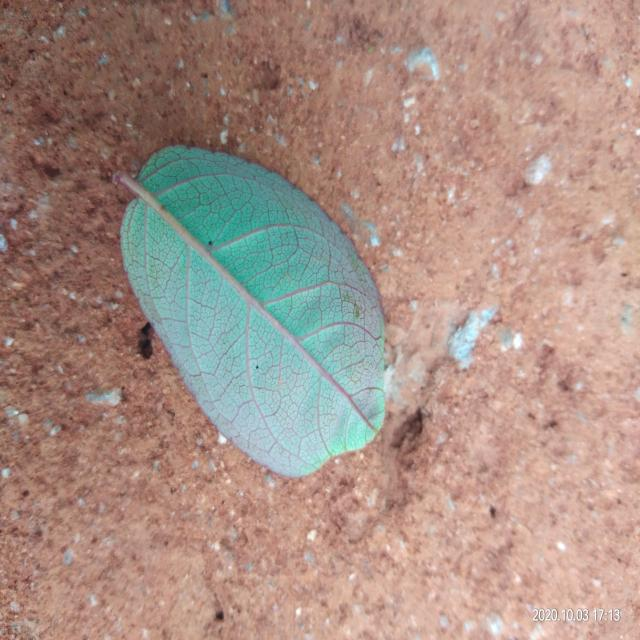rose: (114, 145, 384, 477)
